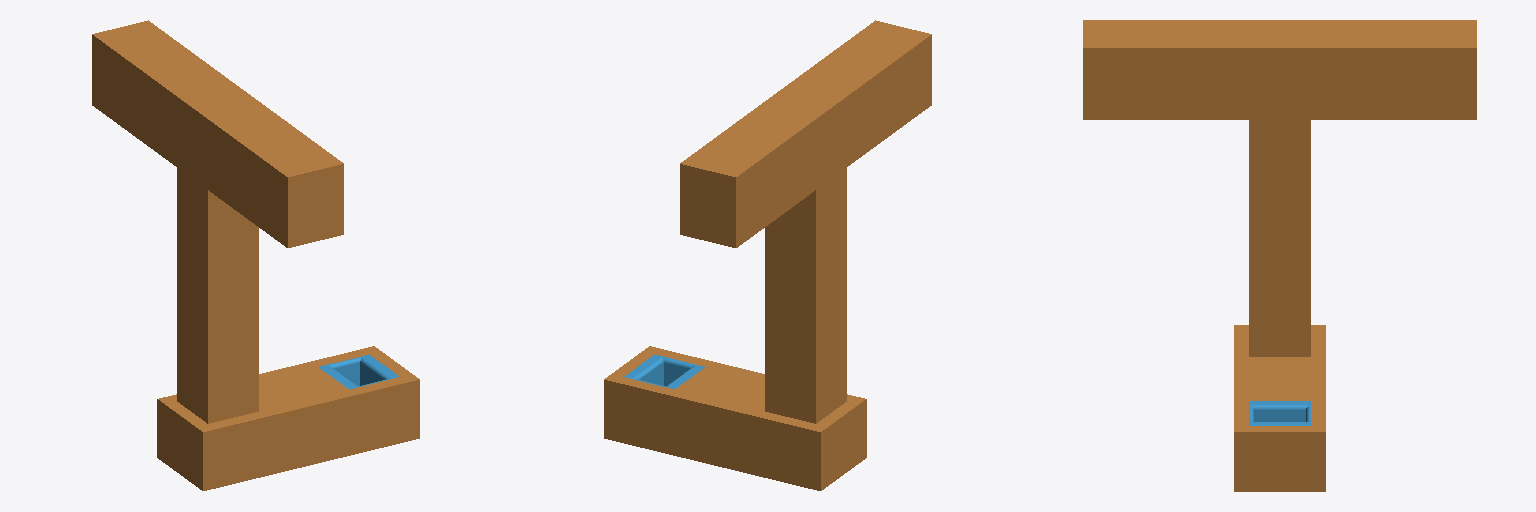
The robot description file, URDF, robot "fixture_beam_3x_part_3_sdf_hybrid":
<?xml version="1.0" encoding="utf-8"?>
<robot name="fixture_beam_3x_part_3_sdf_hybrid">
  <link name="plate">
    <visual>
      <origin xyz="-0.000000 0.022338 0.019050" rpy="0.000000 0.000000 0.000000"/>
      <geometry>
        <box size="0.146250 0.008665 0.038100"/>
      </geometry>
      <material name="bulk"/>
    </visual>
    <collision>
      <origin xyz="-0.000000 0.022338 0.019050" rpy="0.000000 0.000000 0.000000"/>
      <geometry>
        <box size="0.146250 0.008665 0.038100"/>
      </geometry>
    </collision>
    <visual>
      <origin xyz="-0.000000 -0.022337 0.019050" rpy="0.000000 0.000000 0.000000"/>
      <geometry>
        <box size="0.146250 0.008665 0.038100"/>
      </geometry>
      <material name="bulk"/>
    </visual>
    <collision>
      <origin xyz="-0.000000 -0.022337 0.019050" rpy="0.000000 0.000000 0.000000"/>
      <geometry>
        <box size="0.146250 0.008665 0.038100"/>
      </geometry>
    </collision>
    <visual>
      <origin xyz="-0.021395 -0.000000 0.019050" rpy="0.000000 0.000000 0.000000"/>
      <geometry>
        <box size="0.103460 0.036010 0.038100"/>
      </geometry>
      <material name="bulk"/>
    </visual>
    <collision>
      <origin xyz="-0.021395 -0.000000 0.019050" rpy="0.000000 0.000000 0.000000"/>
      <geometry>
        <box size="0.103460 0.036010 0.038100"/>
      </geometry>
    </collision>
    <visual>
      <origin xyz="0.068984 -0.000000 0.019050" rpy="0.000000 0.000000 0.000000"/>
      <geometry>
        <box size="0.008281 0.036010 0.038100"/>
      </geometry>
      <material name="bulk"/>
    </visual>
    <collision>
      <origin xyz="0.068984 -0.000000 0.019050" rpy="0.000000 0.000000 0.000000"/>
      <geometry>
        <box size="0.008281 0.036010 0.038100"/>
      </geometry>
    </collision>
    <visual>
      <origin xyz="-0.047589 -0.000000 0.114300" rpy="0.000000 0.000000 0.000000"/>
      <geometry>
        <box size="0.034509 0.036010 0.228600"/>
      </geometry>
      <material name="bulk"/>
    </visual>
    <collision>
      <origin xyz="-0.047589 -0.000000 0.114300" rpy="0.000000 0.000000 0.000000"/>
      <geometry>
        <box size="0.034509 0.036010 0.228600"/>
      </geometry>
    </collision>
    <visual>
      <origin xyz="-0.047625 -0.000000 0.213360" rpy="0.000000 0.000000 0.000000"/>
      <geometry>
        <box size="0.038100 0.228600 0.045720"/>
      </geometry>
      <material name="bulk"/>
    </visual>
    <collision>
      <origin xyz="-0.047625 -0.000000 0.213360" rpy="0.000000 0.000000 0.000000"/>
      <geometry>
        <box size="0.038100 0.228600 0.045720"/>
      </geometry>
    </collision>
    <visual>
      <origin xyz="-0.000000 -0.000000 0.018998" rpy="0.000000 0.000000 0.000000"/>
      <geometry>
        <mesh filename="../6/sdf_hybrid/6_hole_patch_for_part_3.obj" scale="1 1 1"/>
      </geometry>
      <material name="hole"/>
    </visual>
    <collision>
      <origin xyz="-0.000000 -0.000000 0.018998" rpy="0.000000 0.000000 0.000000"/>
      <geometry>
        <mesh filename="../6/sdf_hybrid/6_hole_patch_for_part_3.obj" scale="1 1 1"/>
      </geometry>
      <sdf resolution="256"/>
    </collision>
  </link>
  <material name="bulk">
    <color rgba="0.78 0.55 0.30 1.0"/>
  </material>
  <material name="hole">
    <color rgba="0.30 0.65 0.85 1.0"/>
  </material>
</robot>

--- Facts derived from the render (not from the file) ---
The picture shows the robot from 3 angles, left to right: view 1: azimuth 30°, elevation 25°; view 2: azimuth 150°, elevation 25°; view 3: azimuth 270°, elevation 25°; orthographic projection.
Model fixture_beam_3x_part_3_sdf_hybrid with 1 links and 0 joints (none), rooted at plate, posed every joint at zero.
Visible links, largest first — view 1: plate; view 2: plate; view 3: plate.
Link boxes in pixels (x1=…): plate: x1=92, y1=20, x2=419, y2=490; plate: x1=604, y1=20, x2=931, y2=490; plate: x1=1083, y1=20, x2=1476, y2=491.
Size in the robot's own frame: 0.1462 by 0.2286 by 0.2362 metres.
Meshes: 1 distinct files referenced, 1 mesh visuals loaded (1 OBJ).
